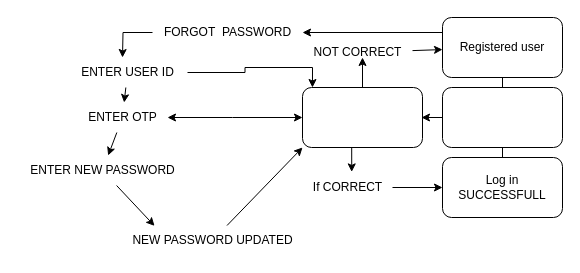
Image size: 580x273. Some labels were removed from this diagram. The centre of each missing label's shape, as x and y in pixels:
Database: [362,117]
Enter user id & password: [502,117]
